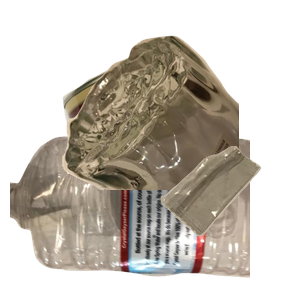glass: (60, 33, 300, 213)
metal: (60, 58, 300, 238)
plastic: (10, 134, 250, 300)
trash: (158, 144, 300, 300)
